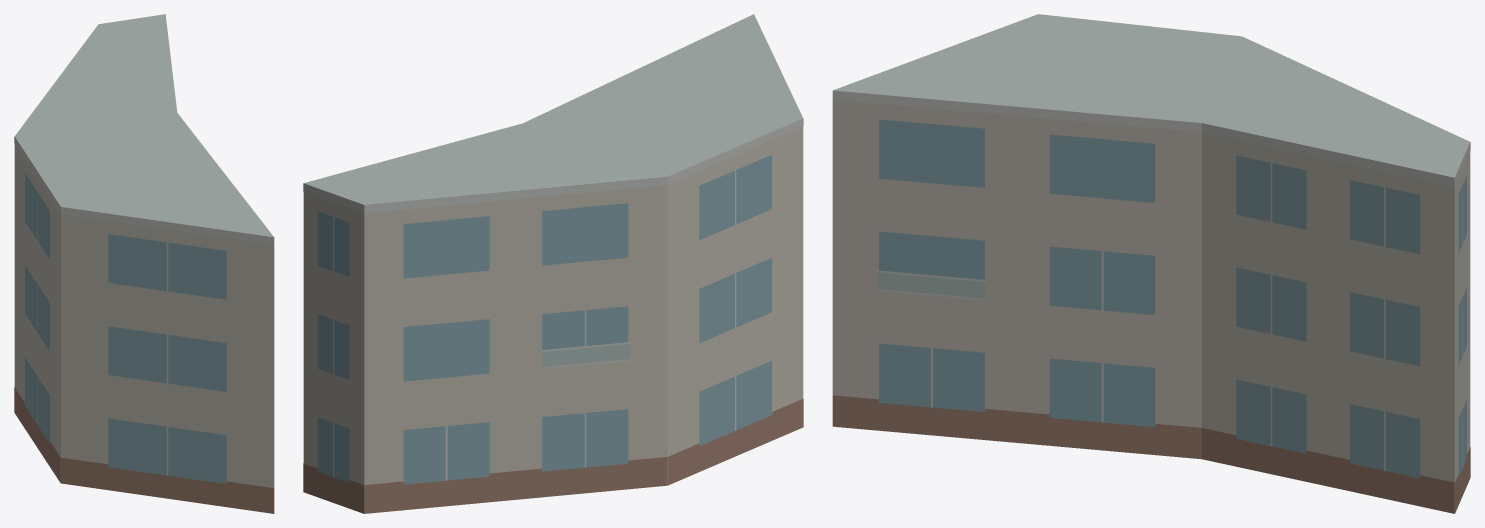
File: survey-upis-32678776.glb
3 renders of one model, left to right at view 1: azimuth 30°, elevation 25°; view 2: azimuth 150°, elevation 25°; view 3: azimuth 270°, elevation 25°, orthographic. The views are drawn at different scales.
Visible parts, largest first — view 1: survey-upis-32678776.tmp; view 2: survey-upis-32678776.tmp; view 3: survey-upis-32678776.tmp.
Boxes of the visible parts, x1,y1,x2,y2 form: survey-upis-32678776.tmp: (14,14,274,513); survey-upis-32678776.tmp: (303,14,803,513); survey-upis-32678776.tmp: (832,14,1470,513).
Bounding box in the file's own units: 9.41 × 9 × 15.49.
